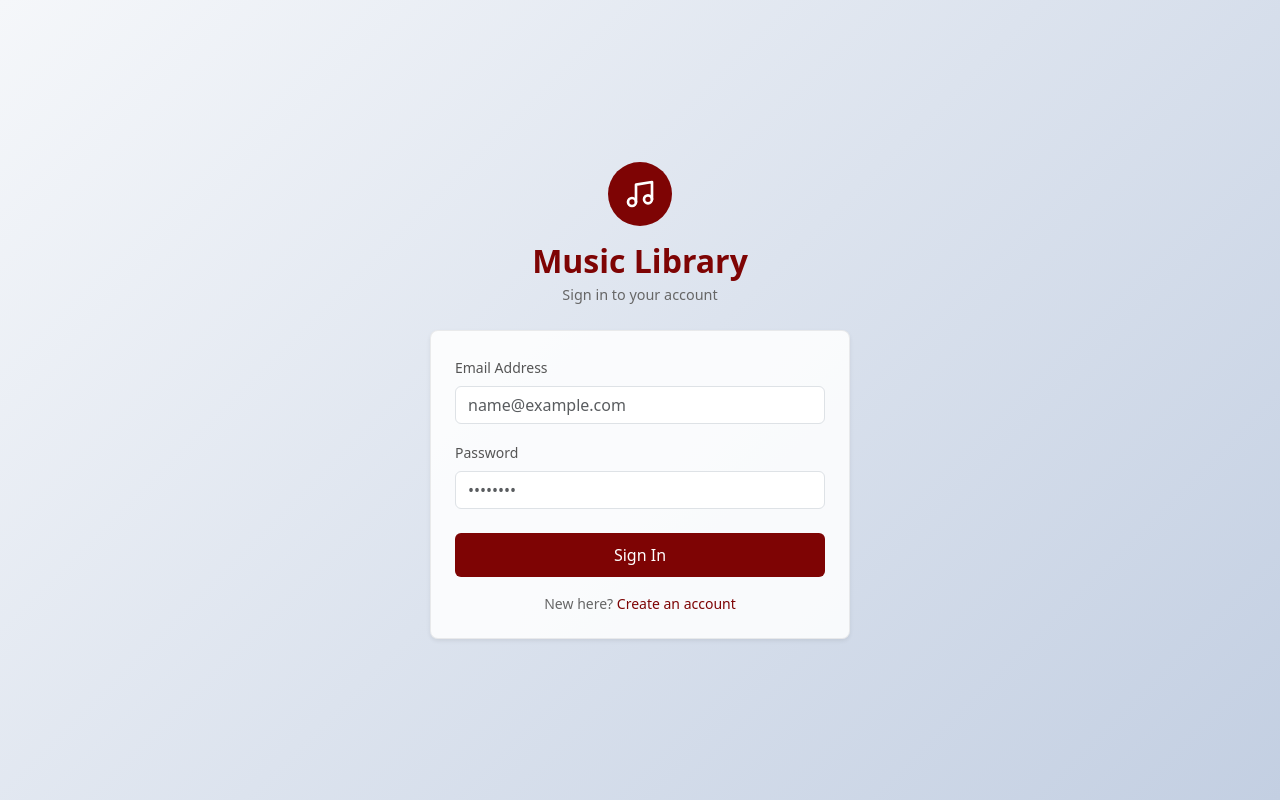
Test case: Login Page › should show validation errors when submitting empty form
This screenshot has width=1280, height=800.
Click the submit button at x=640, y=555, box [455,533,825,577]
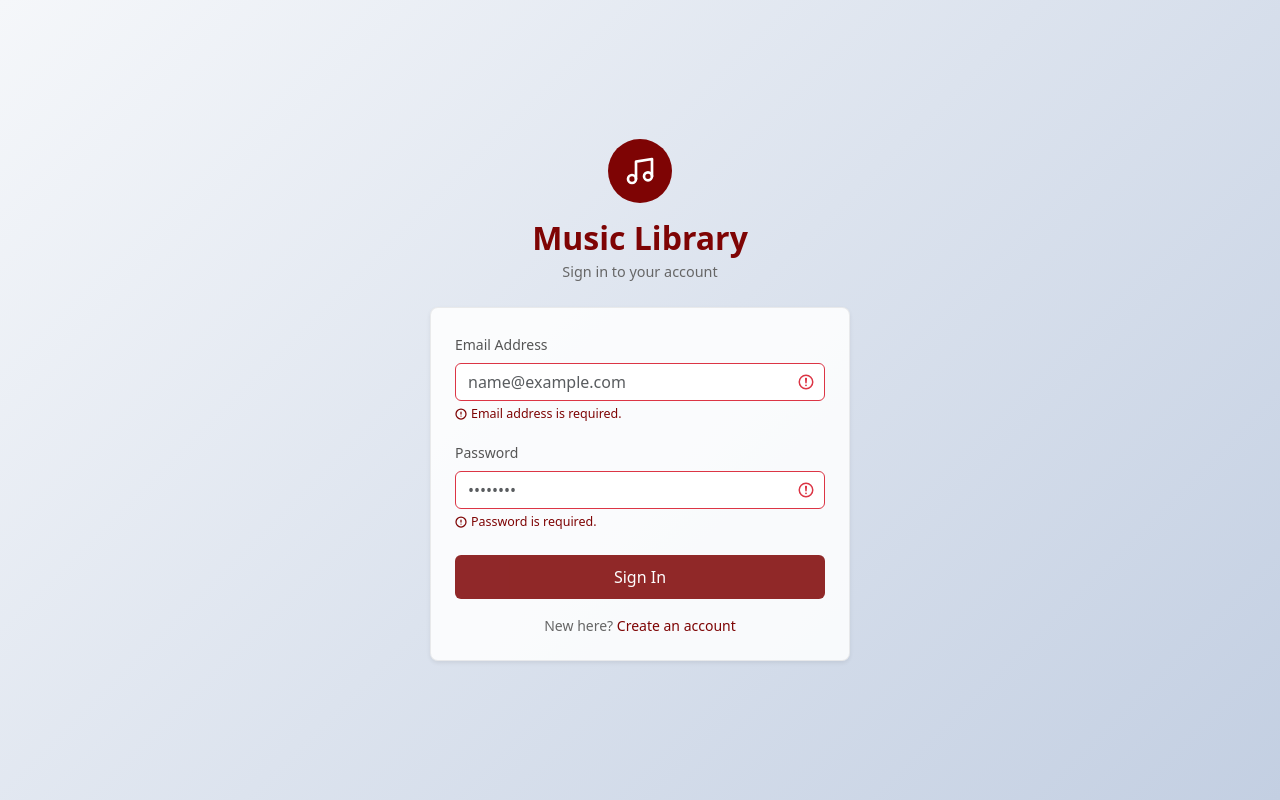
Result: the text "Email address is required" is shown at [471,405,622,422]
Result: the text "Password is required" is shown at [471,513,597,530]
